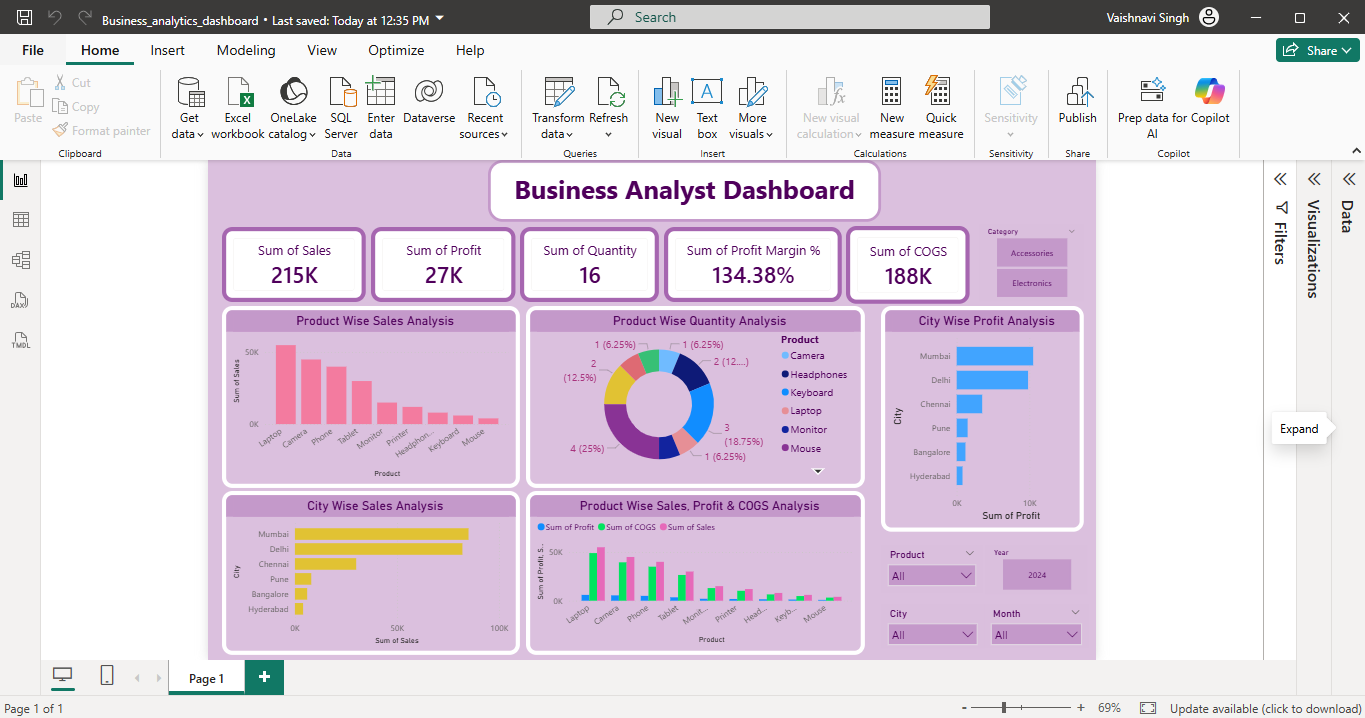

The page's visual inventory and layout, read from the dashboard file:
{"tool":"powerbi","page":{"name":"Page 1","canvas":[1280,720],"ordinal":0},"visuals":[{"type":"textbox","box":[403.2,0,565.9,89],"z":0},{"type":"cardVisual","fields":{"Data":["Sum(Business_dashboard.Sales)"]},"box":[20.2,96.5,207.4,108],"z":1000},{"type":"cardVisual","fields":{"Data":["Sum(Business_dashboard.Profit)"]},"box":[234.7,96.5,208,108],"z":2000},{"type":"cardVisual","fields":{"Data":["Sum(Business_dashboard.Quantity)"]},"box":[449.3,96.5,200,108],"z":3000},{"type":"clusteredColumnChart","title":"Product Wise Sales Analysis","fields":{"Category":["Business_dashboard.Product"],"Y":["Sum(Business_dashboard.Sales)"]},"box":[20.2,210.2,429.1,262.1],"z":4000},{"type":"donutChart","title":"Product Wise Quantity Analysis","fields":{"Series":["Business_dashboard.Product"],"Y":["Sum(Business_dashboard.Quantity)"]},"box":[457.9,210.2,488.2,262.1],"z":5000},{"type":"slicer","fields":{"Values":["Business_dashboard.Category"]},"box":[1110.2,92.2,151.2,112.3],"z":6000},{"type":"clusteredBarChart","title":"City Wise Sales Analysis","fields":{"Category":["Business_dashboard.City"],"Y":["Sum(Business_dashboard.Sales)"]},"box":[20.2,476.6,429.1,236.2],"z":7000},{"type":"cardVisual","fields":{"Data":["Sum(Business_dashboard.Profit Margin %)"]},"box":[656.6,96.5,256,108],"z":8000},{"type":"cardVisual","fields":{"Data":["Sum(Business_dashboard.COGS)"]},"box":[918.7,95,178,112.3],"z":9000},{"type":"slicer","fields":{"Values":["Business_dashboard.City"]},"box":[969.1,639.4,149,64],"z":10000},{"type":"slicer","fields":{"Values":["Business_dashboard.Product"]},"box":[969.1,554.4,147,69],"z":11000},{"type":"clusteredBarChart","title":"City Wise Profit Analysis","fields":{"Category":["Business_dashboard.City"],"Y":["Sum(Business_dashboard.Profit)"]},"box":[969.1,210.2,292.3,325.4],"z":12000},{"type":"slicer","fields":{"Values":["Business_dashboard.Order_Date.Variation.Date Hierarchy.Month"]},"box":[1117.4,639.4,151,63.4],"z":13000},{"type":"slicer","fields":{"Values":["Business_dashboard.Order_Date.Variation.Date Hierarchy.Year"]},"box":[1118.9,554.4,148.3,70.6],"z":14000},{"type":"clusteredColumnChart","title":"Product Wise Sales, Profit & COGS Analysis","fields":{"Y":["Sum(Business_dashboard.Profit)","Sum(Business_dashboard.COGS)","Sum(Business_dashboard.Sales)"],"Category":["Business_dashboard.Product"]},"box":[458,477,488,236],"z":15000}]}

Visuals, with their boxes on the page's 1280x720 design canvas (x1, y1, x2, y2). These are canvas units, not pixel positions in the 1365x718 screenshot, which may show the page scaled, cropped or inside an application window:
textbox: <region>403, 0, 969, 89</region>
cardVisual - Sum(Business_dashboard.Sales): <region>20, 96, 228, 204</region>
cardVisual - Sum(Business_dashboard.Profit): <region>235, 96, 443, 204</region>
cardVisual - Sum(Business_dashboard.Quantity): <region>449, 96, 649, 204</region>
"Product Wise Sales Analysis" clusteredColumnChart: <region>20, 210, 449, 472</region>
"Product Wise Quantity Analysis" donutChart: <region>458, 210, 946, 472</region>
slicer - Business_dashboard.Category: <region>1110, 92, 1261, 204</region>
"City Wise Sales Analysis" clusteredBarChart: <region>20, 477, 449, 713</region>
cardVisual - Sum(Business_dashboard.Profit Margin %): <region>657, 96, 913, 204</region>
cardVisual - Sum(Business_dashboard.COGS): <region>919, 95, 1097, 207</region>
slicer - Business_dashboard.City: <region>969, 639, 1118, 703</region>
slicer - Business_dashboard.Product: <region>969, 554, 1116, 623</region>
"City Wise Profit Analysis" clusteredBarChart: <region>969, 210, 1261, 536</region>
slicer - Business_dashboard.Order_Date.Variation.Date Hierarchy.Month: <region>1117, 639, 1268, 703</region>
slicer - Business_dashboard.Order_Date.Variation.Date Hierarchy.Year: <region>1119, 554, 1267, 625</region>
"Product Wise Sales, Profit & COGS Analysis" clusteredColumnChart: <region>458, 477, 946, 713</region>
